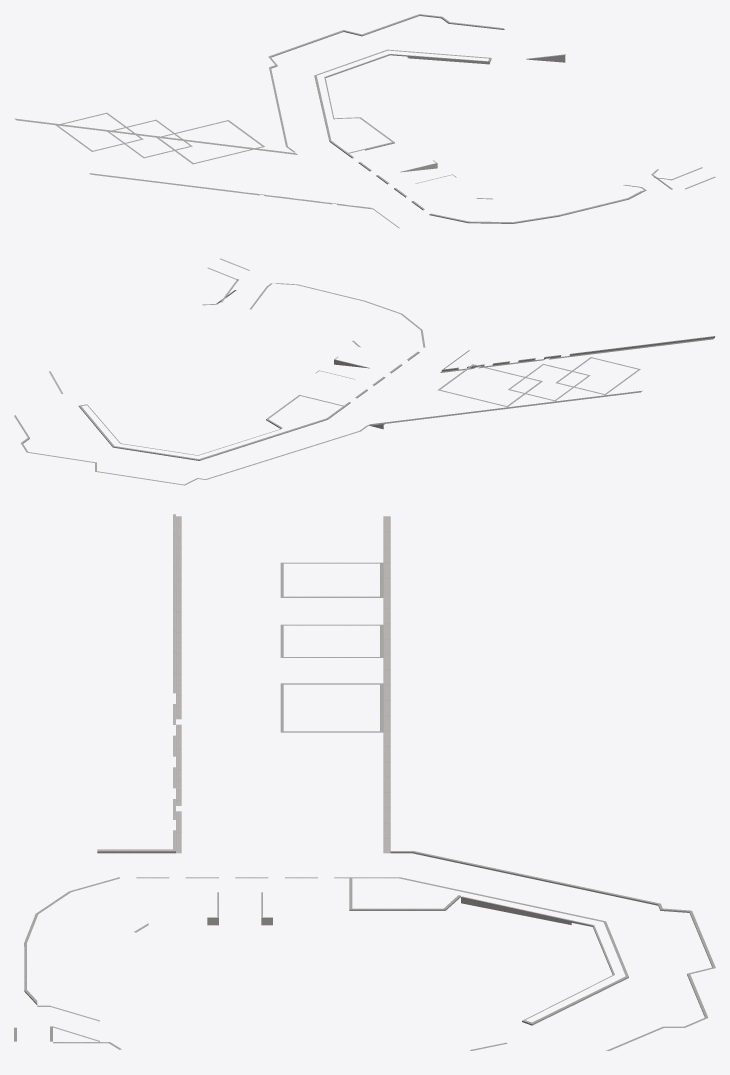
Rendered from kd_connection_town-ground_surface_1_8.glb.
3 renders of one model, top to bottom at view 1: azimuth 30°, elevation 25°; view 2: azimuth 150°, elevation 25°; view 3: azimuth 270°, elevation 25°, orthographic. The views are drawn at different scales.
Visible parts, largest first — view 1: kd_connection_town-ground_surface_1_8; view 2: kd_connection_town-ground_surface_1_8; view 3: kd_connection_town-ground_surface_1_8.
Boxes of the visible parts, x1=… form: kd_connection_town-ground_surface_1_8: x1=14, y1=14, x2=715, y2=228; kd_connection_town-ground_surface_1_8: x1=14, y1=258, x2=715, y2=485; kd_connection_town-ground_surface_1_8: x1=14, y1=514, x2=715, y2=1050.
Bounding box in the file's own units: 64.07 × 12.15 × 47.91.
1 material, 1 textured.
